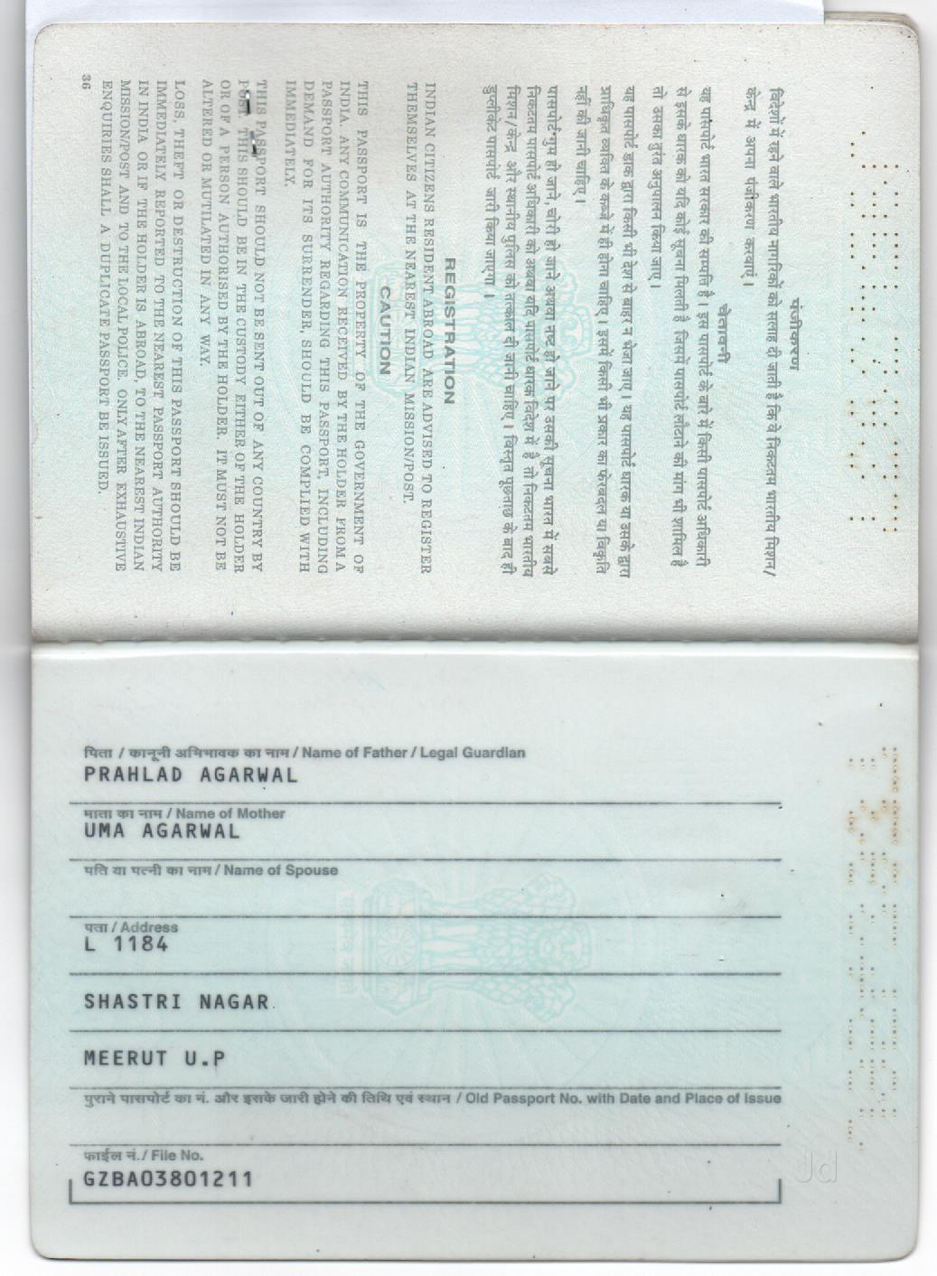File_no: (77, 1163, 261, 1195)
address: (67, 933, 293, 1074)
father_name: (68, 752, 321, 799)
mother_name: (72, 811, 262, 864)
